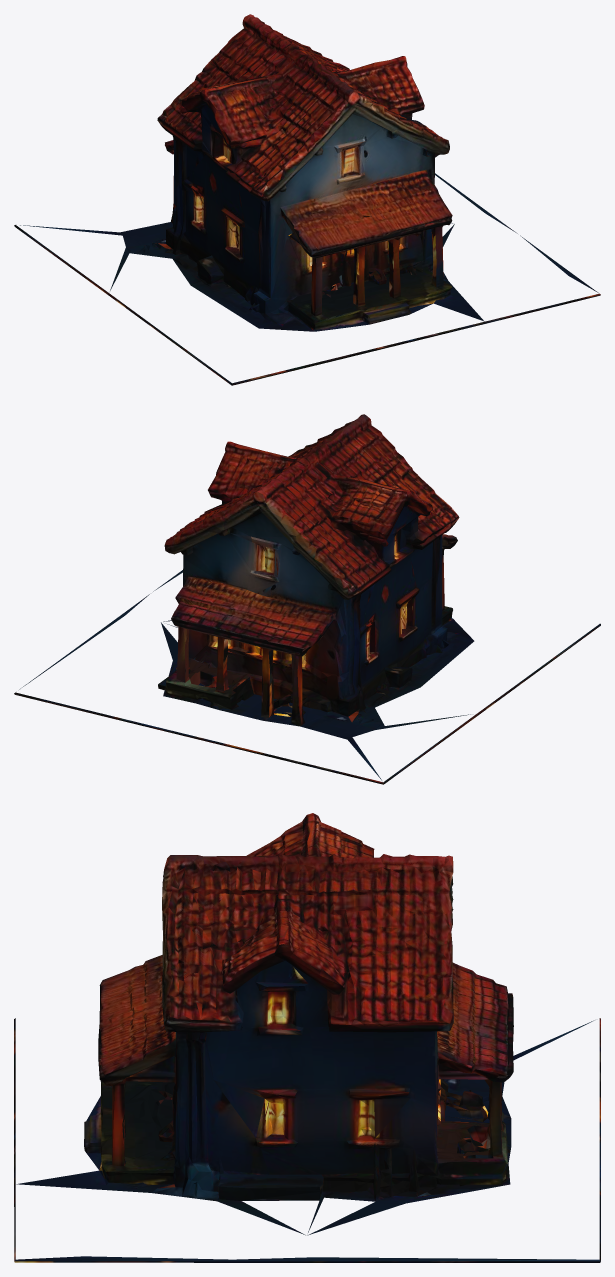
File: build_cottage_b.glb
The picture shows the model from 3 angles, top to bottom: view 1: azimuth 30°, elevation 25°; view 2: azimuth 150°, elevation 25°; view 3: azimuth 270°, elevation 25°; orthographic projection. The views are drawn at different scales.
Parts seen in each view (by area): view 1: 23bde579-bd7b-451a-8a8c-882c3190ef84_texturing.obj; view 2: 23bde579-bd7b-451a-8a8c-882c3190ef84_texturing.obj; view 3: 23bde579-bd7b-451a-8a8c-882c3190ef84_texturing.obj.
Boxes of the visible parts, x1=… form: 23bde579-bd7b-451a-8a8c-882c3190ef84_texturing.obj: x1=14, y1=14, x2=600, y2=385; 23bde579-bd7b-451a-8a8c-882c3190ef84_texturing.obj: x1=14, y1=414, x2=600, y2=784; 23bde579-bd7b-451a-8a8c-882c3190ef84_texturing.obj: x1=14, y1=813, x2=600, y2=1262.
Bounding box in the file's own units: 1.95 × 1.07 × 1.99.
1 material, 1 textured.
